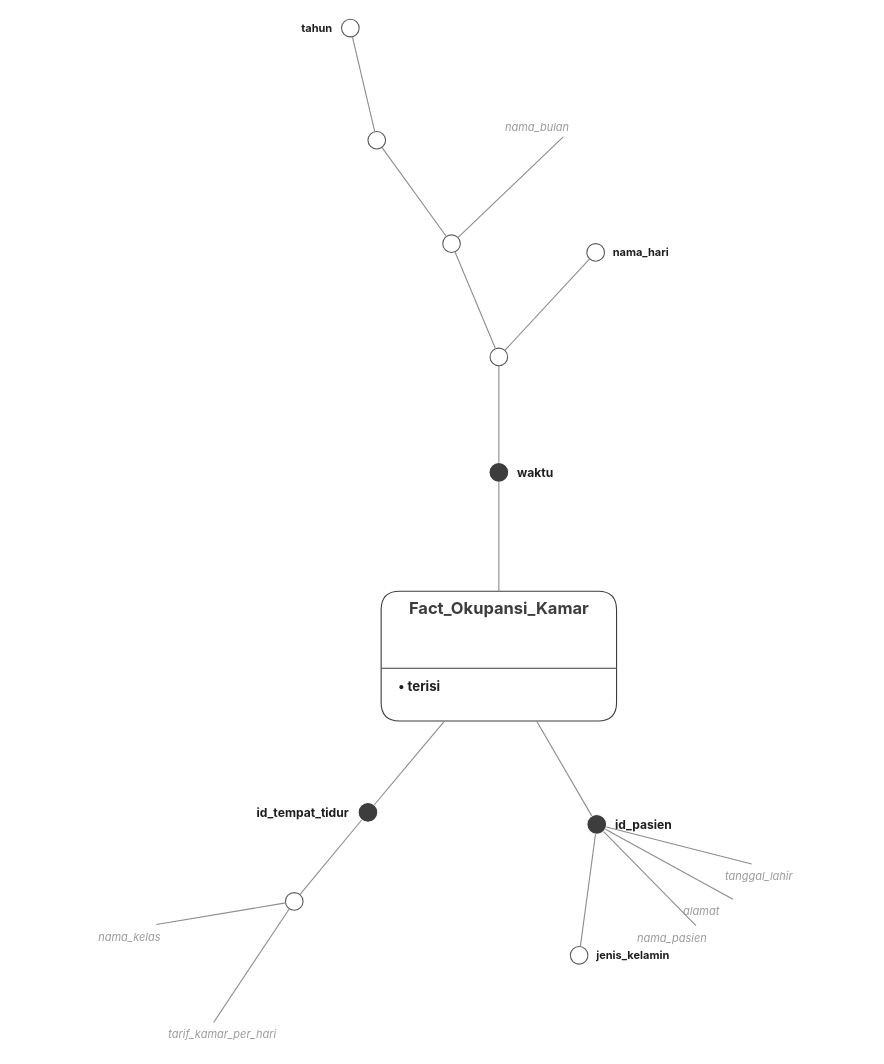
The diagram is 884 pixels wide and 1064 high, and some of its shapes have lost their labels. Each missing label, with the centre of its shape:
bulan: the point at 451,243
id_kelas: the point at 293,901
kuartal: the point at 376,139
tanggal: the point at 498,356
